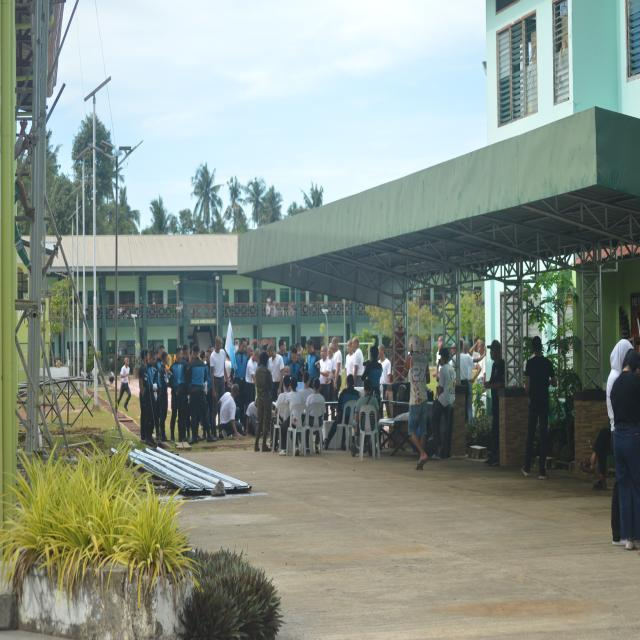person: (611, 350, 639, 550), (522, 336, 557, 479), (406, 336, 430, 470), (324, 375, 360, 449), (485, 340, 505, 466), (185, 345, 210, 441), (352, 379, 379, 455), (254, 351, 273, 452), (210, 336, 225, 412), (219, 384, 239, 440), (268, 344, 284, 401), (379, 344, 391, 415), (118, 358, 131, 410), (353, 336, 364, 386)
